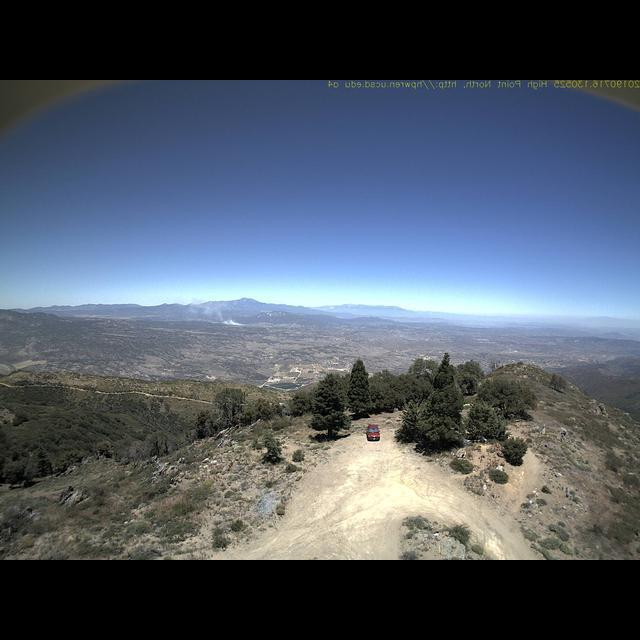Smoke: (185, 293, 255, 330)
